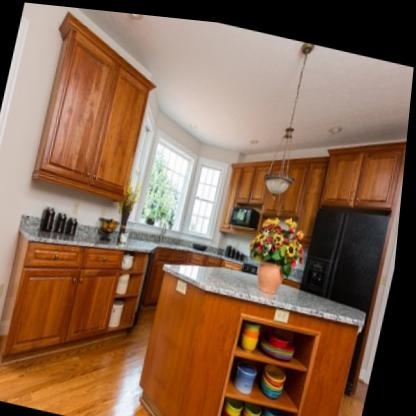Cabinet: (11, 240, 229, 353), (35, 10, 157, 200), (223, 147, 331, 236), (323, 132, 409, 204)
Window: (139, 129, 199, 228), (184, 152, 230, 234)
